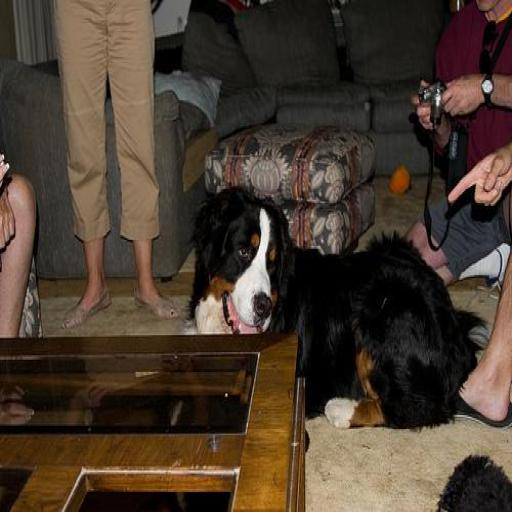dog_face: (194, 202, 288, 334)
